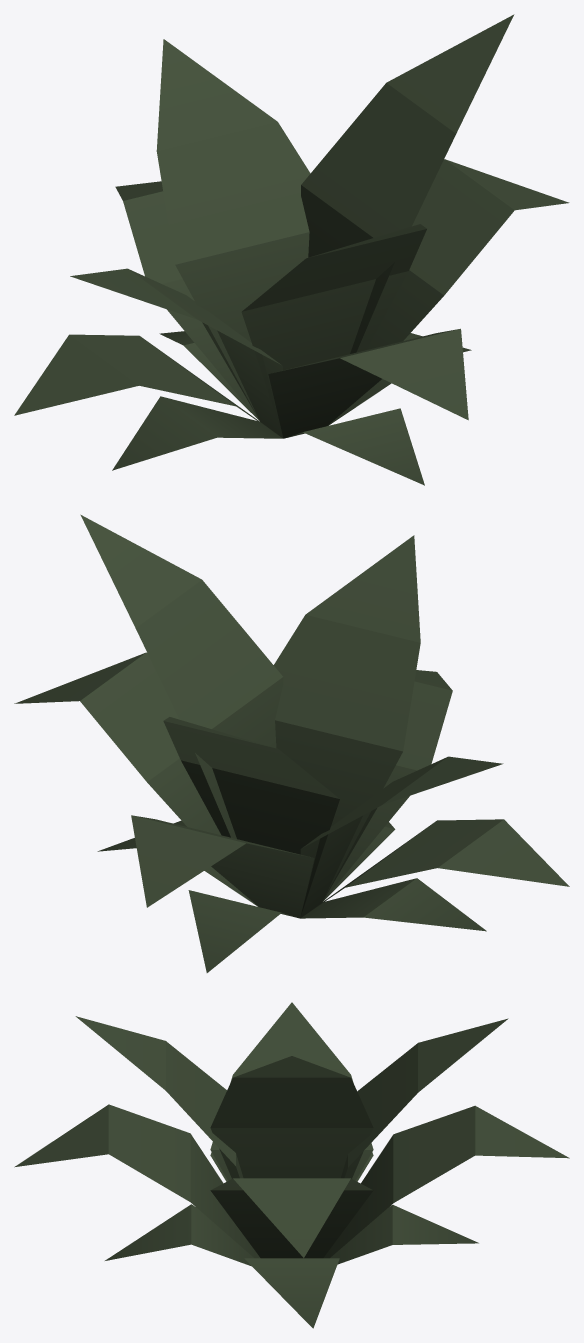
The model's file is busch_dicht.glb.
The picture shows the model from 3 angles, top to bottom: view 1: azimuth 30°, elevation 25°; view 2: azimuth 150°, elevation 25°; view 3: azimuth 270°, elevation 25°; orthographic projection. The views are drawn at different scales.
Visible parts, largest first — view 1: busch_dicht; view 2: busch_dicht; view 3: busch_dicht.
Boxes of the visible parts, <box> form: busch_dicht: <box>14,14,569,485</box>; busch_dicht: <box>14,514,569,972</box>; busch_dicht: <box>14,1002,569,1328</box>.
Size of the model in its own units: 3.01 by 1.8 by 3.01.
